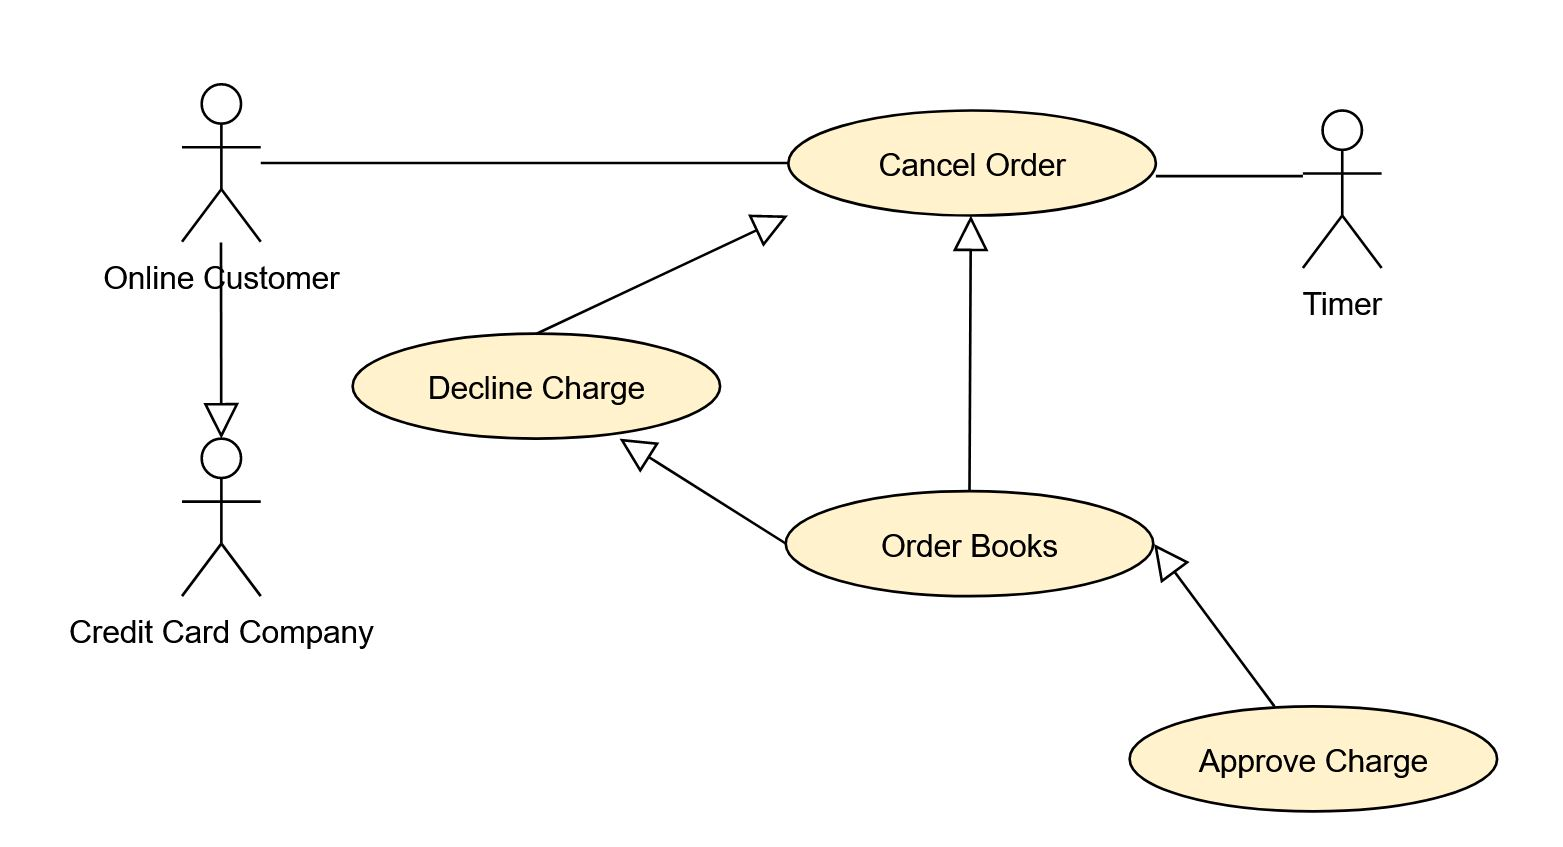actor: (173, 78, 268, 244), (177, 438, 271, 596), (1302, 108, 1385, 269)
association: (258, 144, 787, 185), (1155, 163, 1299, 200)
generalization: (537, 211, 791, 331), (1152, 544, 1283, 706), (616, 436, 781, 542), (948, 218, 990, 491), (202, 246, 249, 439)
text: (52, 607, 386, 663), (106, 257, 344, 302), (1190, 745, 1433, 784), (423, 366, 646, 408), (879, 146, 1067, 187), (881, 528, 1065, 565), (1302, 282, 1392, 321)
use_case: (786, 106, 1158, 219), (783, 488, 1156, 600), (1127, 703, 1501, 813), (352, 331, 721, 441)
